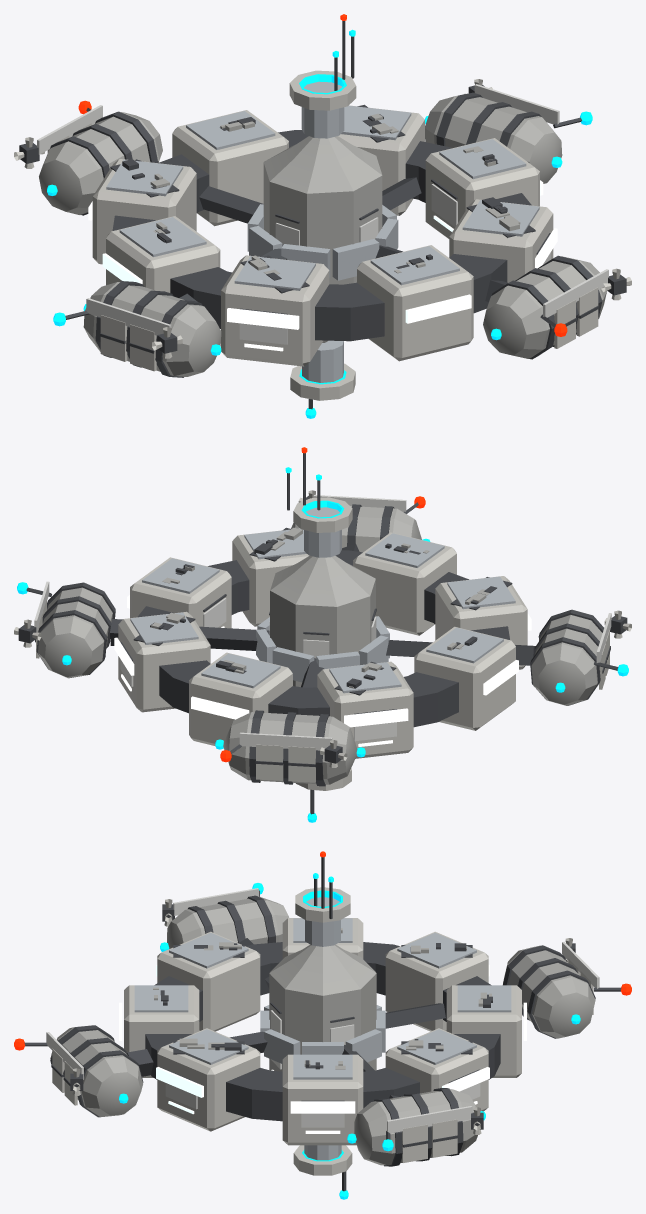
The model's file is goods_factory.glb.
3 renders of one model, top to bottom at view 1: azimuth 30°, elevation 25°; view 2: azimuth 150°, elevation 25°; view 3: azimuth 270°, elevation 25°, orthographic. The views are drawn at different scales.
Visible parts, largest first — view 1: goods_factory; view 2: goods_factory; view 3: goods_factory.
Part boxes in pixels (bbox=[...]): goods_factory: bbox=[14, 14, 631, 418]; goods_factory: bbox=[14, 447, 631, 822]; goods_factory: bbox=[14, 851, 631, 1199].
Bounding box in the file's own units: 1.96 × 1.24 × 1.95.
